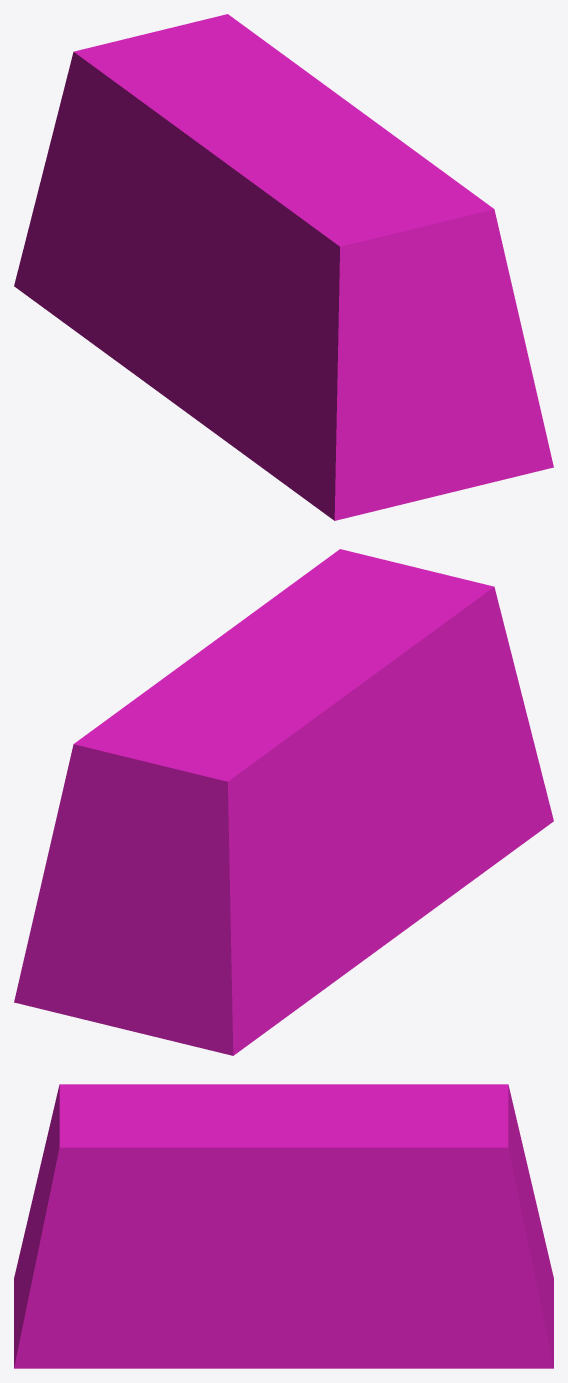
File: barricade2.fbx
3 views of the same model, one above another, from view 1: azimuth 30°, elevation 25°; view 2: azimuth 150°, elevation 25°; view 3: azimuth 270°, elevation 25° (orthographic). The views are drawn at different scales.
Parts seen in each view (by area): view 1: barricade2_COL; view 2: barricade2_COL; view 3: barricade2_COL.
Part boxes in pixels (box(x1,y1,x2,y2)): barricade2_COL: box(14, 14, 553, 520); barricade2_COL: box(14, 549, 553, 1055); barricade2_COL: box(14, 1084, 553, 1368).
Bounding box in the file's own units: 139 × 352 × 149.
